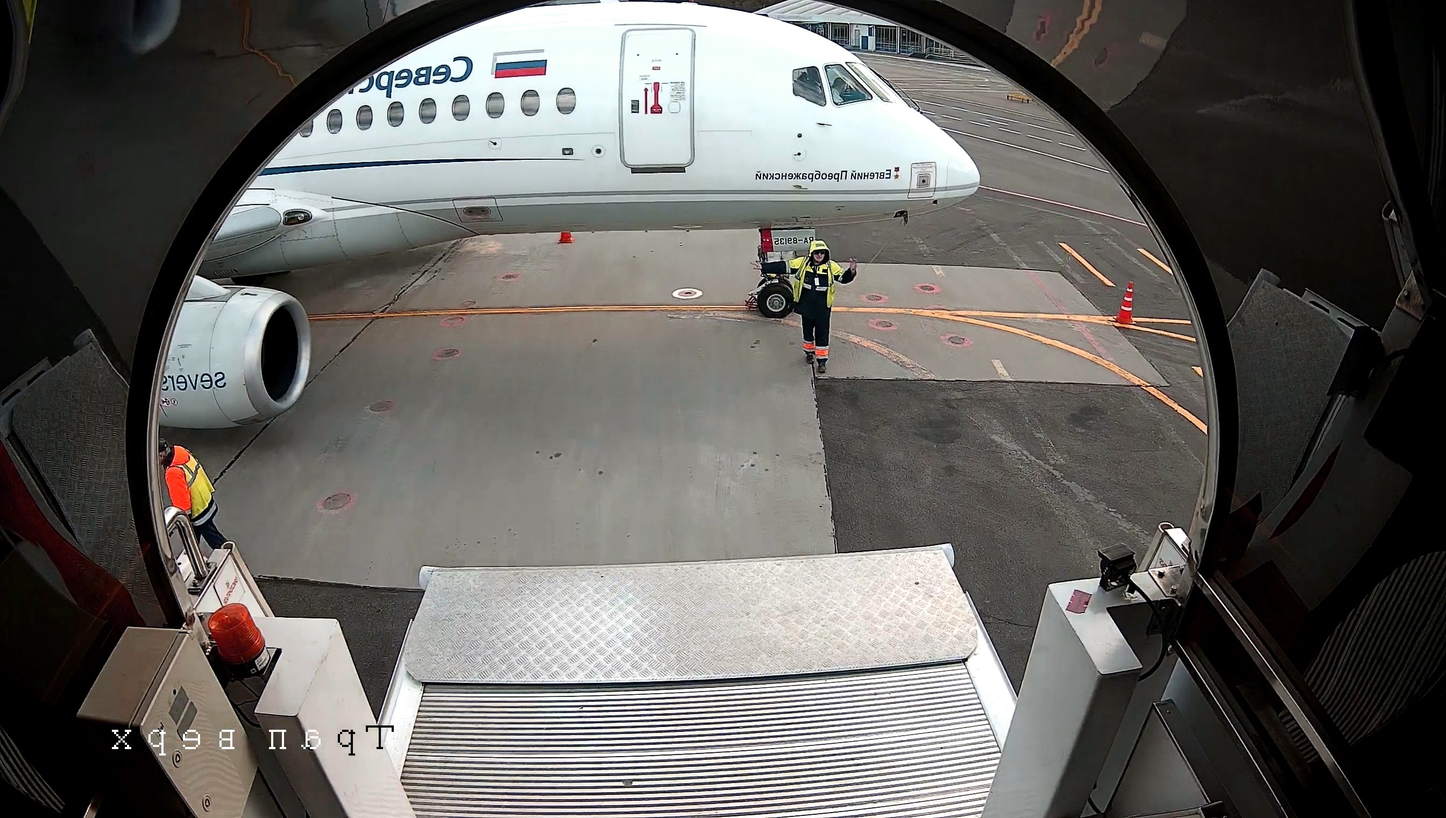boots: (741, 287, 757, 313)
wheels: (757, 279, 791, 322)
